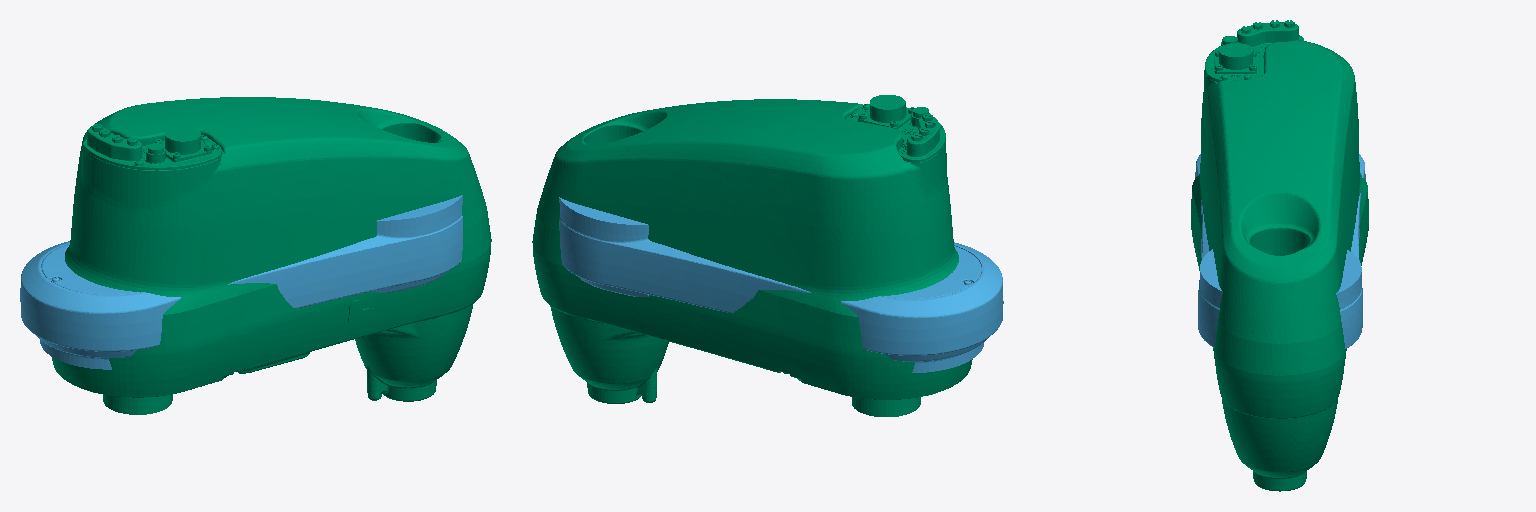
robot.urdf — scara:
<?xml version="1.0"?>

<robot name="scara">

  <link name="base_link">
    <visual>
      <geometry>
        <mesh filename="package://ros_learning/meshes/base_link.dae"/>
      </geometry>      
    </visual>
  </link>

  <link name="link_1">
  	<visual>
      <geometry>
        <mesh filename="package://ros_learning/meshes/link1.dae"/>
      </geometry>      
    </visual>
  </link>

  <link name="link_2">
  	<visual>
      <geometry>
        <mesh filename="package://ros_learning/meshes/link2.dae"/>
      </geometry>      
    </visual>
  </link>

  <link name="link_3">
  	<visual>
      <geometry>
        <mesh filename="package://ros_learning/meshes/link3.dae"/>
      </geometry>      
    </visual>
  </link>

  <link name="tool" />

  <joint name="link1_to_base" type="revolute">
    <parent link="base_link"/>
    <child link="link_1"/>
    <origin xyz="0.100 0 0.301"/>
    <axis xyz="0 0 1" />
    <limit effort="300" velocity="0.1" lower="-2.70" upper="2.70"/>
  </joint>

  <joint name="link2_to_link1" type="revolute">
    <parent link="link_1"/>
    <child link="link_2"/>
    <origin xyz="0.225 0 0.100"/>
    <axis xyz="0 0 1" />
    <limit effort="300" velocity="0.1" lower="-2.70" upper="2.70"/>
  </joint>

  <joint name="link3_to_link2" type="prismatic">
    <parent link="link_2"/>
    <child link="link_3"/>
    <origin xyz="0.225 0 0"/>
    <axis xyz="0 0 1" />
    <limit effort="300" velocity="0.1" lower="-0.225" upper="0"/>
  </joint>


  <joint name="tool_to_link3" type="fixed">
    <parent link="link_3"/>
    <child link="tool"/>
    <origin xyz="0 0 -0.175"/>
  </joint>    

</robot>

--- What the picture shows (computed from the rendered views, not written in the file) ---
3 views of the same robot in one strip: view 1: azimuth 30°, elevation 25°; view 2: azimuth 150°, elevation 25°; view 3: azimuth 270°, elevation 25° (orthographic).
Robot: scara — 5 links, 4 joints (2 revolute, 1 prismatic, 1 fixed); root link base_link; default pose: every joint at zero.
Visible links, largest first — view 1: link_2, link_1; view 2: link_2, link_1; view 3: link_2, link_1.
Boxes of the visible links, x1,y1,x2,y2 form: link_2: [52, 97, 491, 414]; link_1: [20, 195, 462, 392]; link_2: [532, 95, 972, 416]; link_1: [559, 197, 1003, 395]; link_2: [1191, 20, 1368, 491]; link_1: [1195, 154, 1365, 349].
Bounding box of the posed robot: 3.74 × 1.36 × 2.67 m (x, y, z).
Meshes: 4 distinct files referenced, 4 mesh visuals loaded (4 Collada DAE).